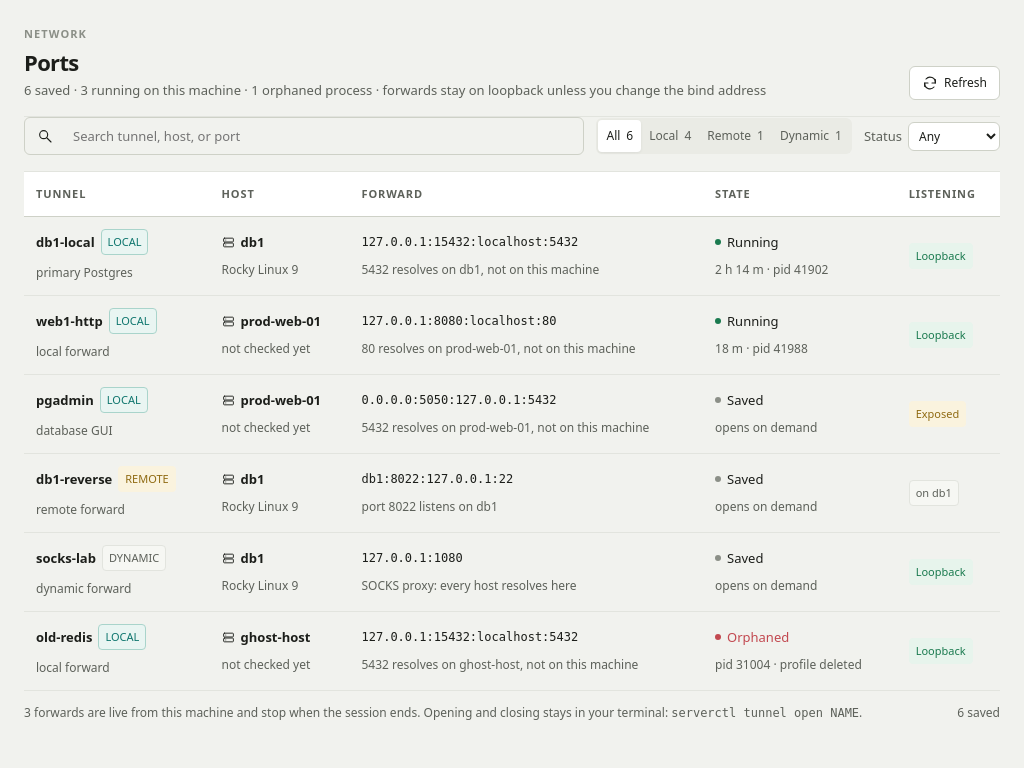
Test case: filters by kind, state, and free text
The width and height of the screenshot is (1024, 768).
Expected: the text "db1-local" is shown, [36,232,95,252]
Step 1. Click the button "Dynamic 1" → {"x": 811, "y": 136}, box [772,120,850,152]
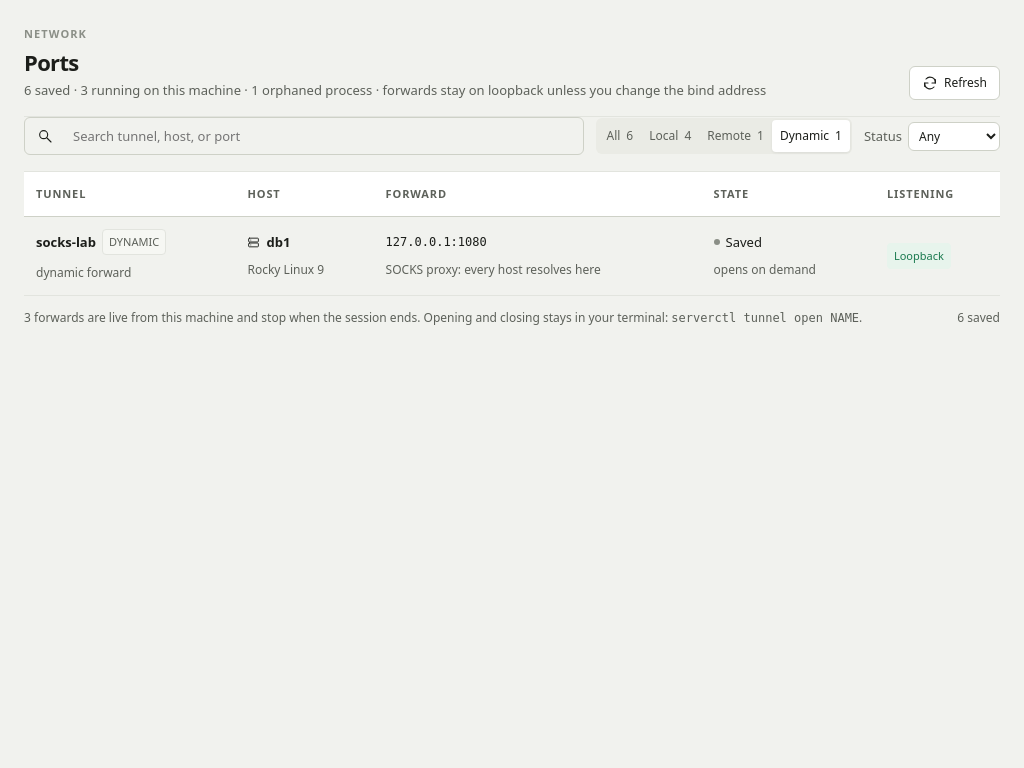
Expected: the text "socks-lab" is shown, [36,232,96,252]
Now the text "db1-local" is gone
Step 2. Click the button "All 6" → {"x": 620, "y": 136}, box [598,120,641,152]
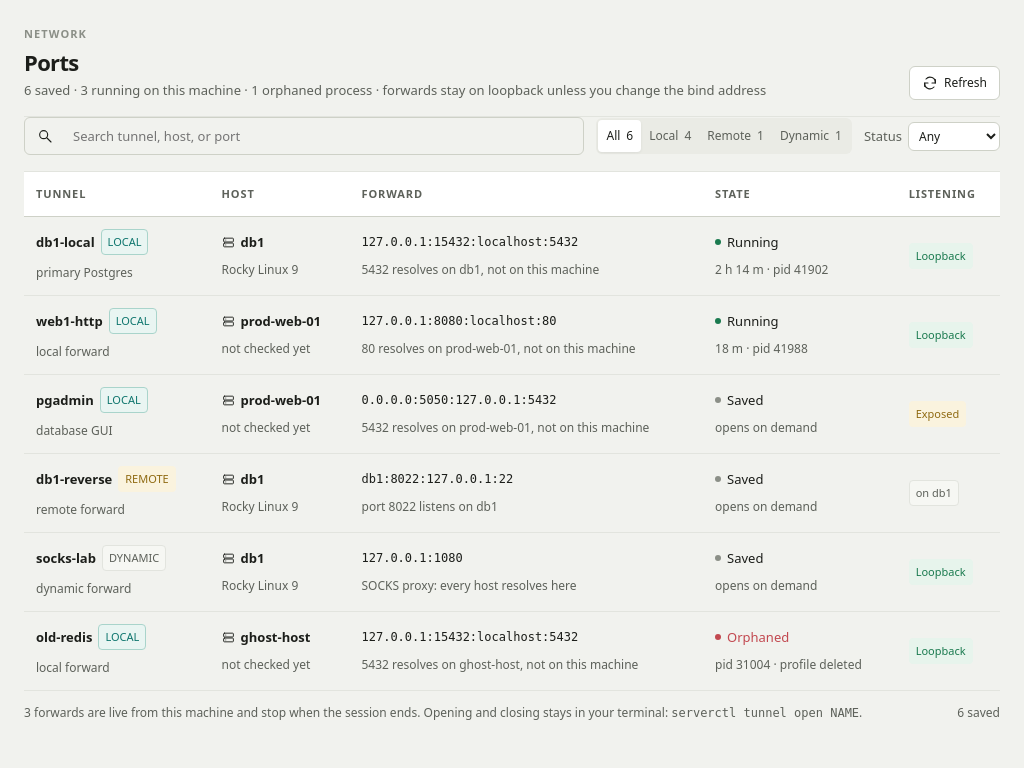
Step 3. Select "Orphaned" in the dropdown named "Tunnel state" → {"x": 954, "y": 136}, box [908,122,1000,150]
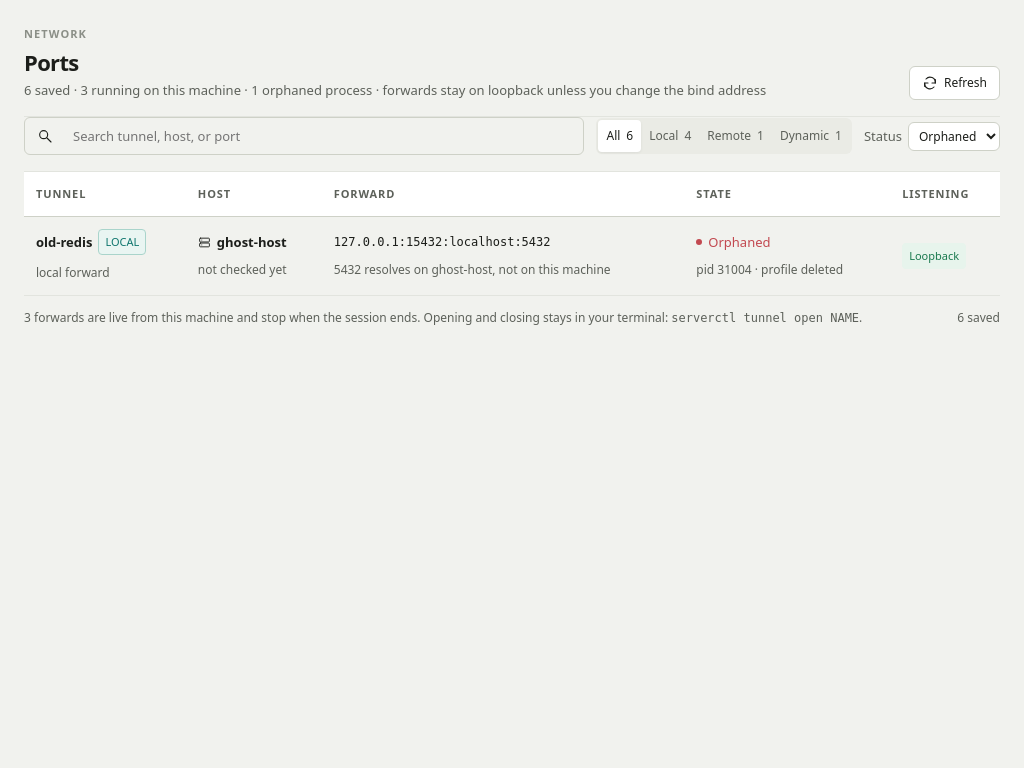
Now the text "old-redis" is shown, box [36,232,92,252]
Now the text "db1-local" is gone
Step 4. Select "Any" in the dropdown named "Tunnel state" → {"x": 954, "y": 136}, box [908,122,1000,150]
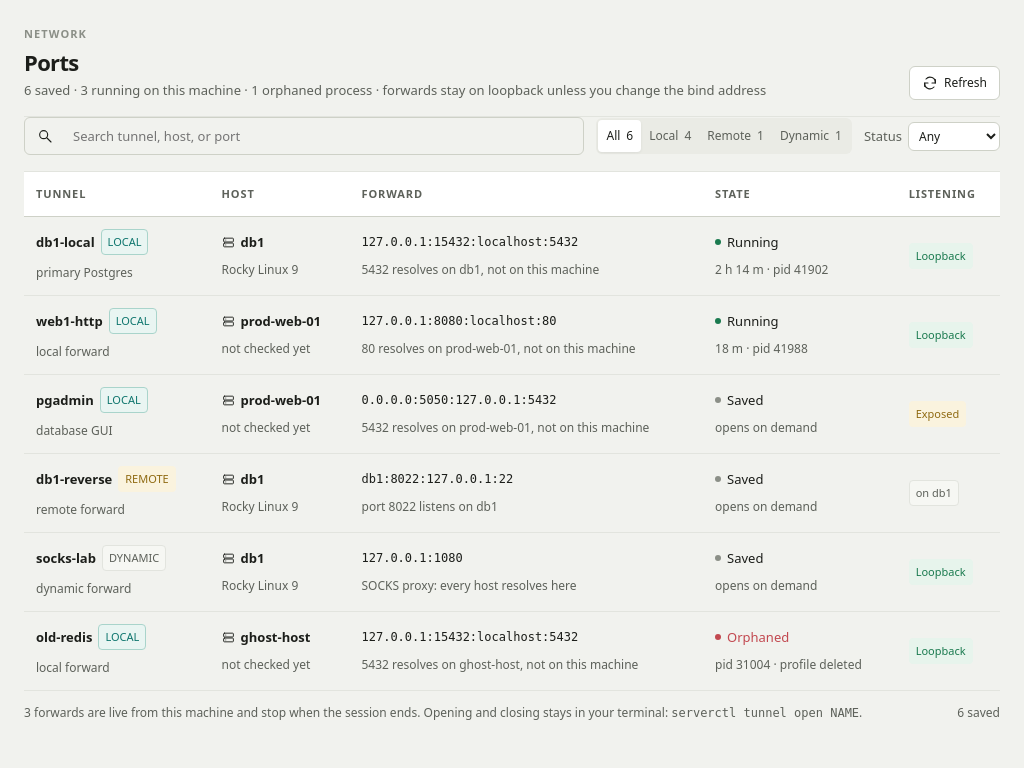
Step 5. Type "pgadmin" into the field named "Search tunnels" → {"x": 322, "y": 136}, box [61,118,584,154]
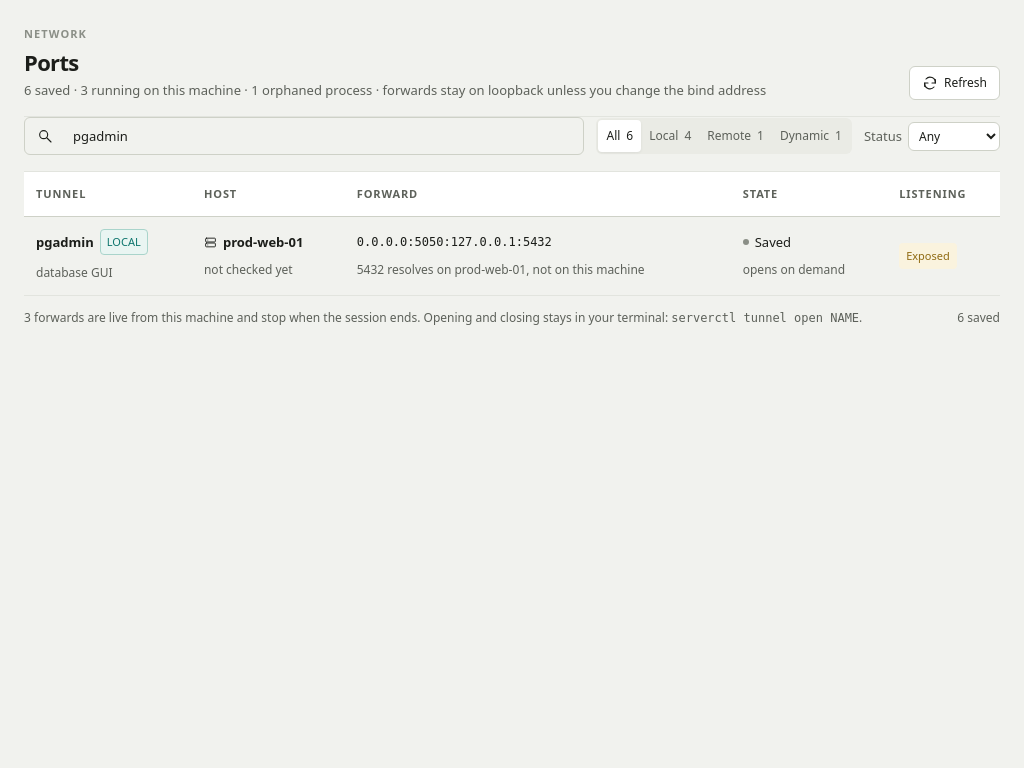
Now the text "pgadmin" is shown, box [36,232,94,252]
Now the text "web1-http" is gone
